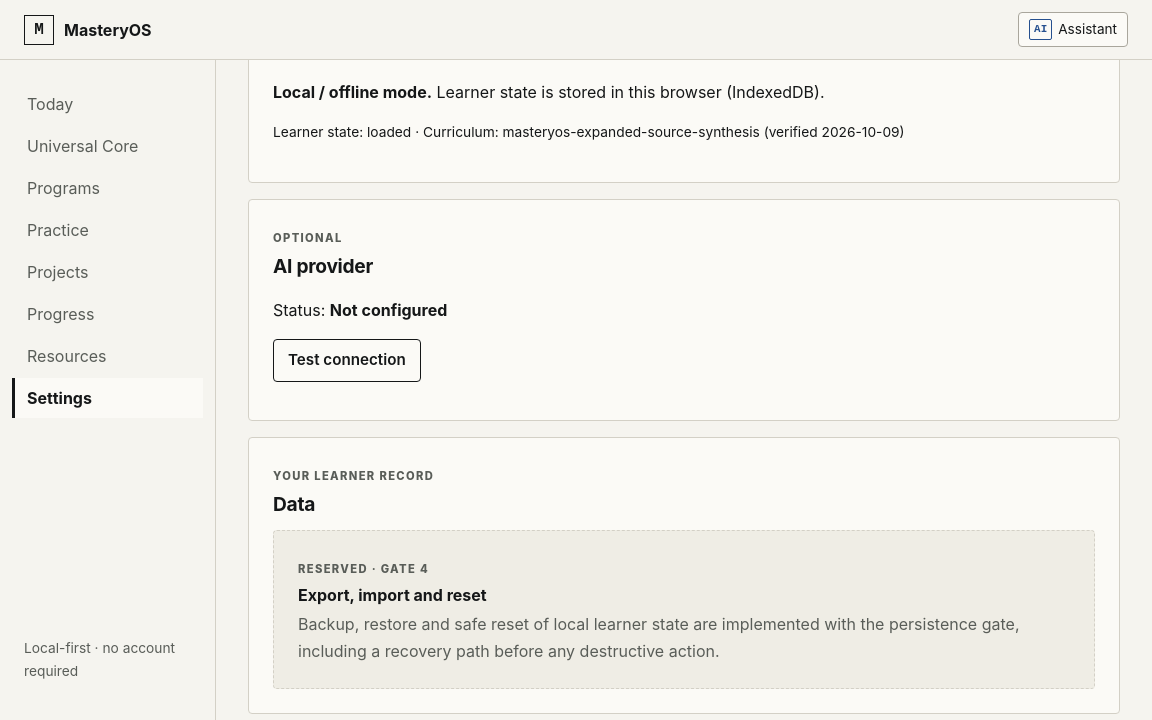
Scenario: local state states › reports the unconfigured AI provider honestly in Settings
The image size is (1152, 720).
(page scrolled)
Click the button "Test connection" at x=347, y=360, box [273,339,421,382]
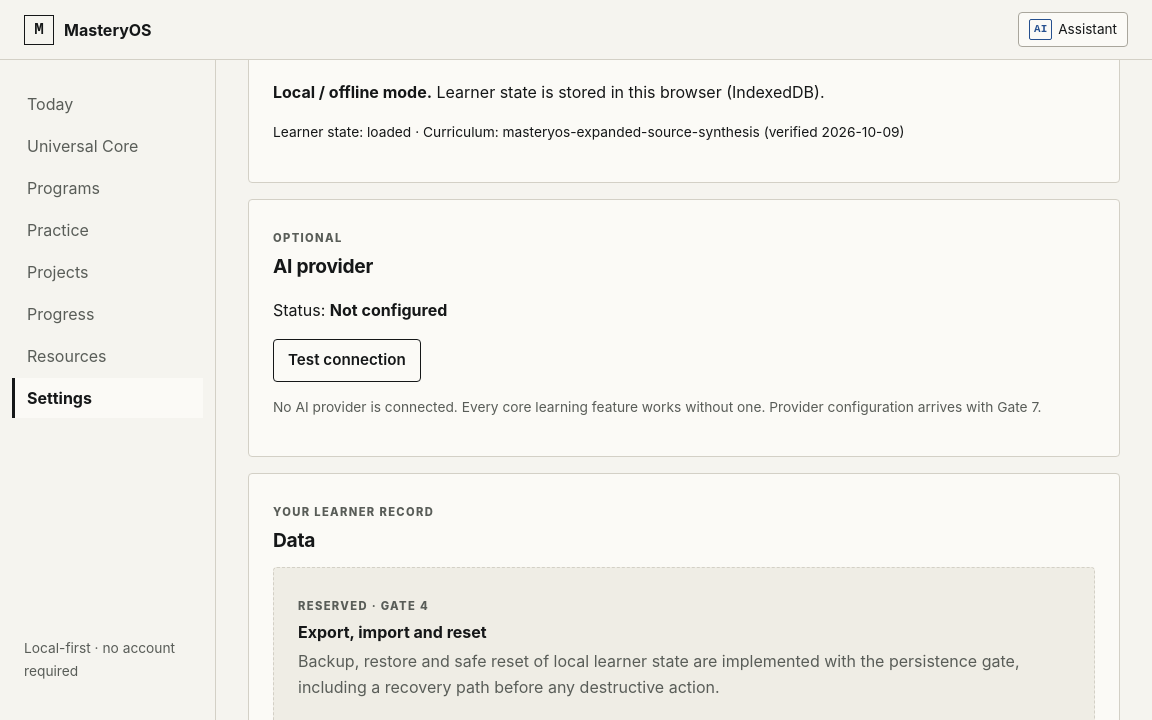
Now the text "No AI provider is connected" is shown, box [273,399,1041,415]
